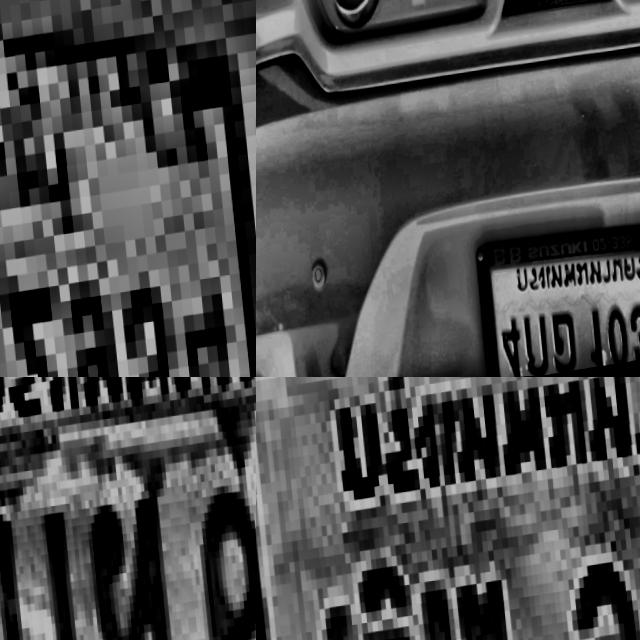license-plate: (256, 377, 640, 640), (0, 0, 256, 377), (0, 377, 256, 640), (469, 228, 640, 377)
